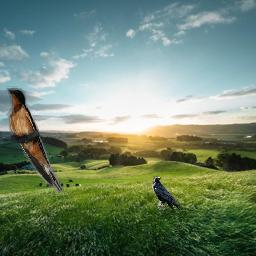Crow: (153, 176, 184, 210)
Swallow: (6, 86, 64, 192)
